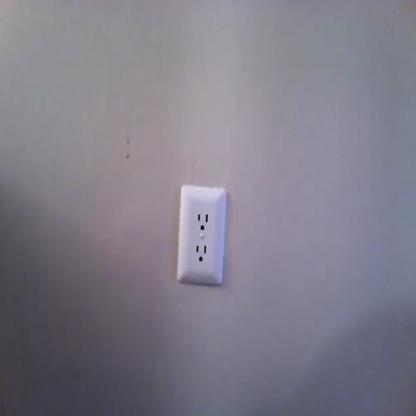OUTLET: (176, 184, 226, 287)
